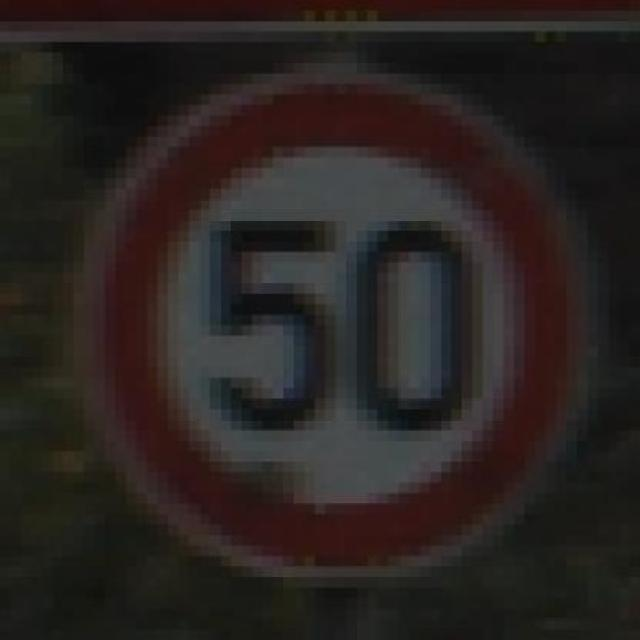forb_speed_over_50: (97, 75, 575, 572)
